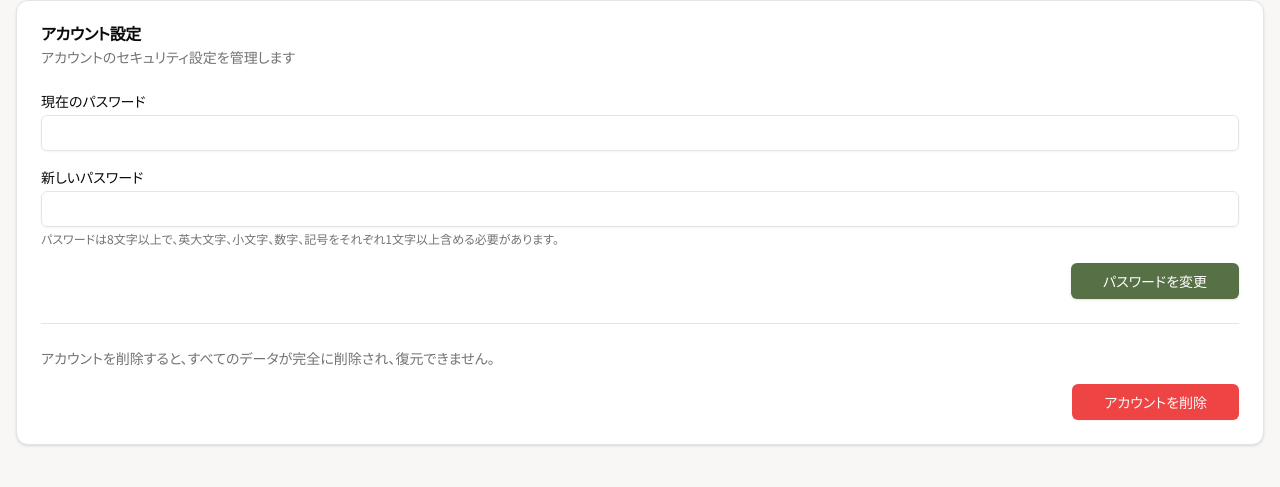
Scenario: AccountSettingsPage › サーバー側で現在のパスワードが間違っている場合にエラーが表示される
Type "wrongpass" into the password field labelled "現在のパスワード". click: {"x": 640, "y": 133}
box: [41,115,1239,151]
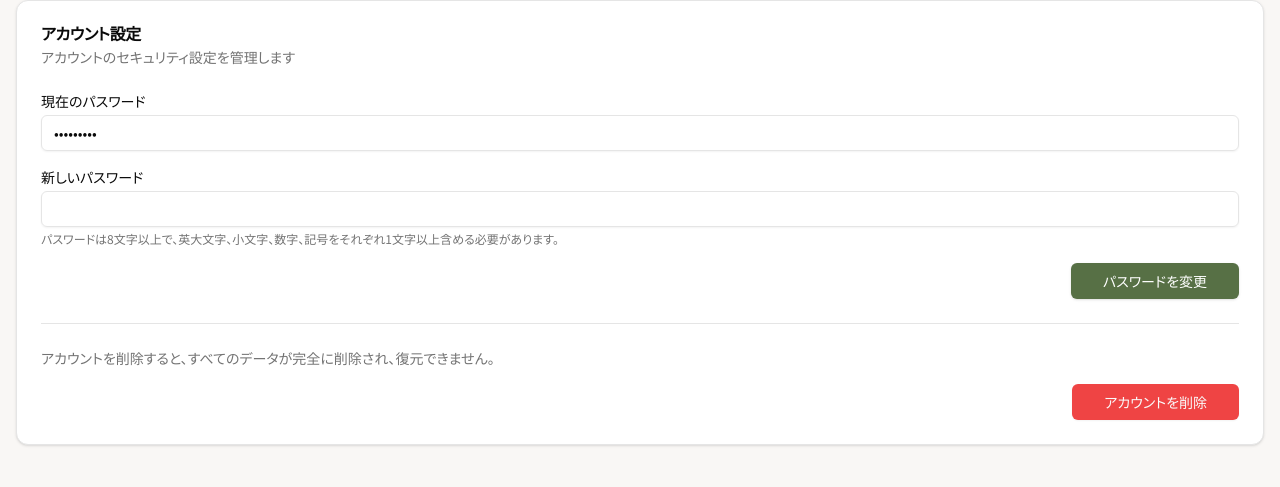
Type "Newpass123!A" into the password field labelled "新しいパスワード". click: {"x": 640, "y": 209}
box: [41,191,1239,227]
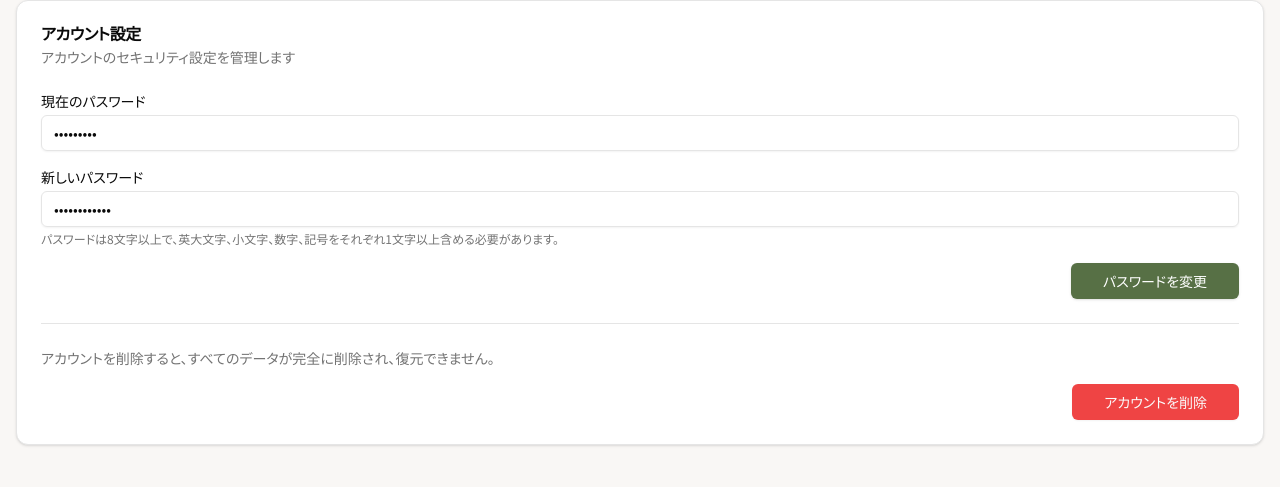
Click the button "パスワードを変更". click: {"x": 1155, "y": 281}
box: [1071,263,1239,299]
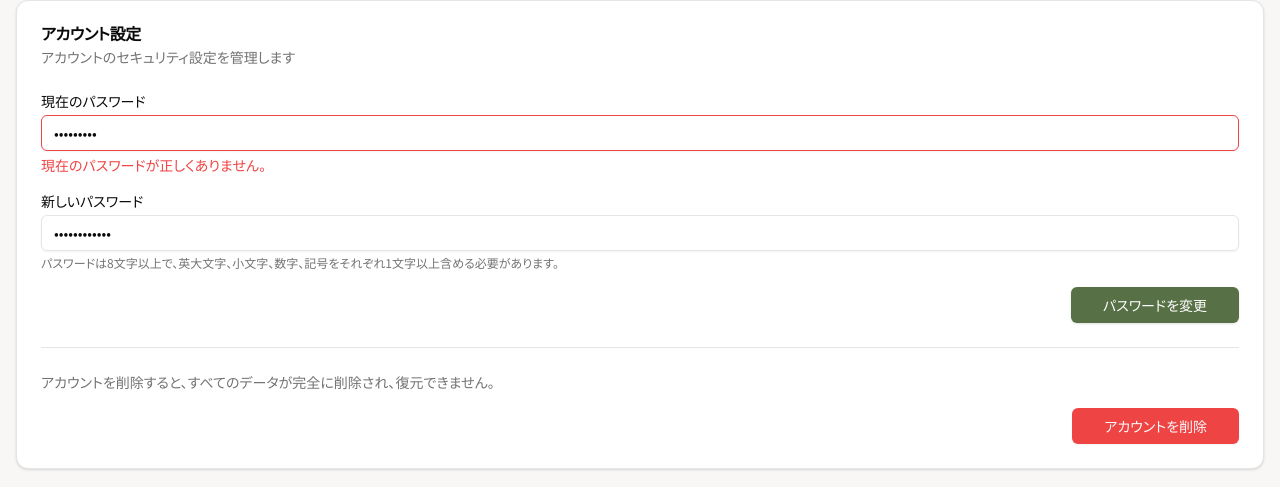
Expected: the text "現在のパスワードが正しくありません。" is shown, [41,155,266,175]
